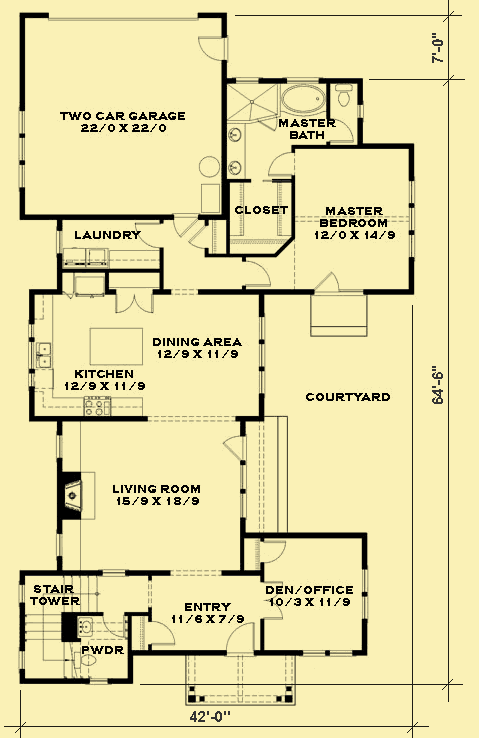kitchen has a cooking range with twin sink and counter: (29, 274, 268, 423)
laundry has washer and dryer: (53, 214, 164, 273)
master bathroom has a bathtub, shower space, small and large sink with closet: (220, 71, 368, 261)
